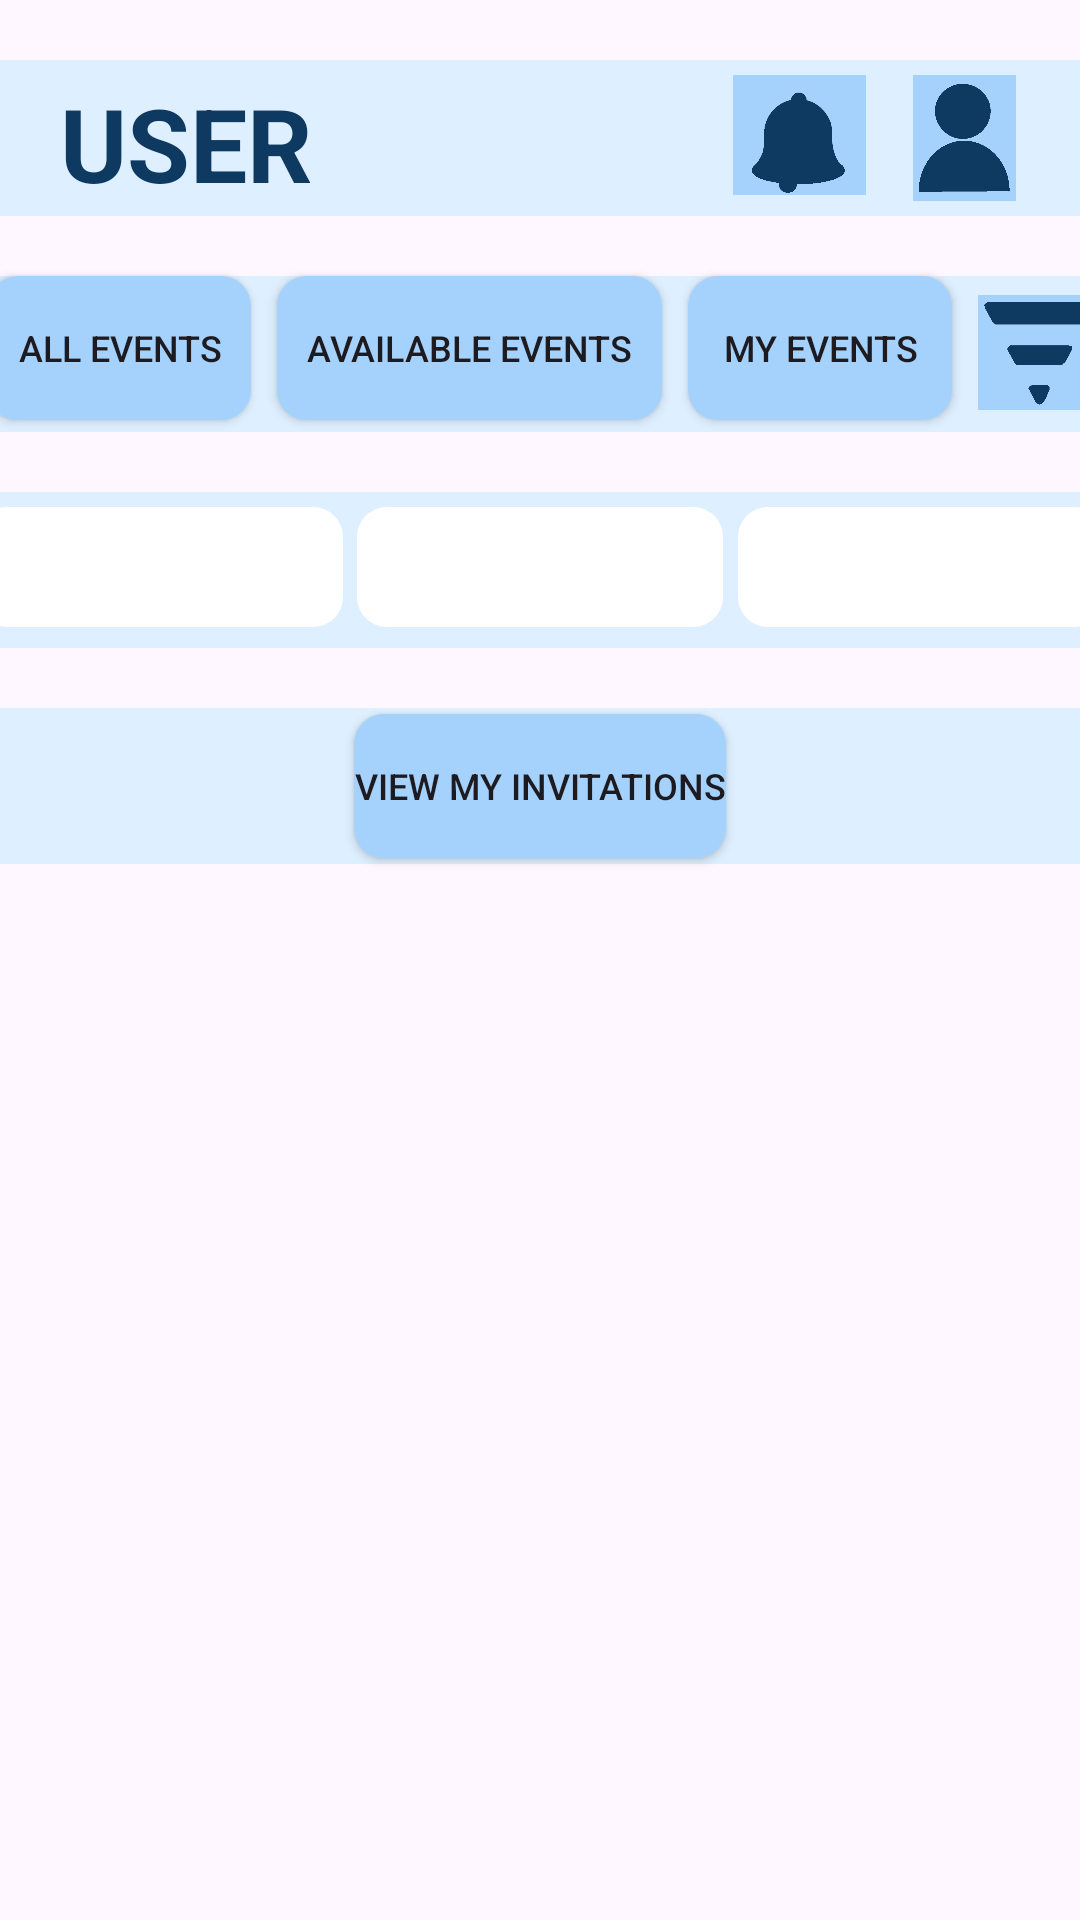

Where to tap for icons on this 1080px×1920px app screen, as (x,y):
notification icon: (799,135)
